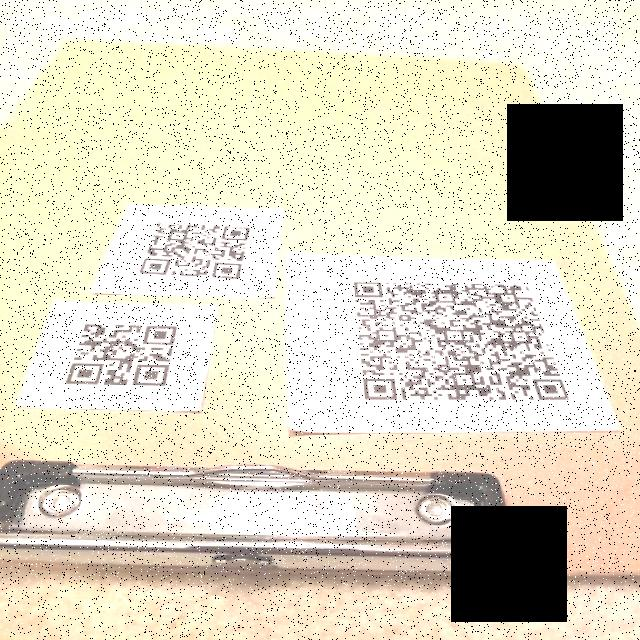QR_CODE: (340, 269, 581, 419), (55, 310, 186, 399), (126, 210, 262, 288)
